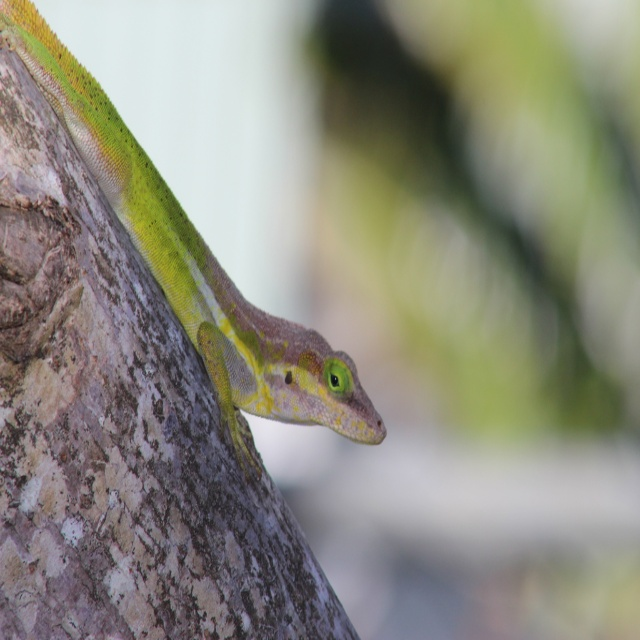Lizard: (0, 0, 387, 485)
